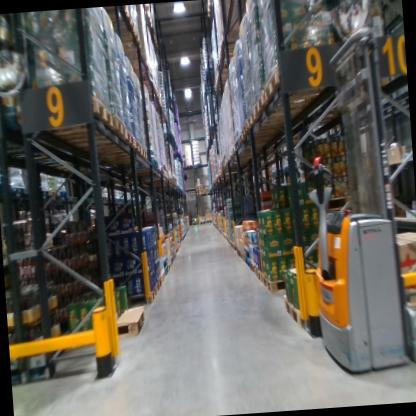pallet: (24, 95, 114, 140), (71, 303, 146, 347), (262, 65, 325, 106), (255, 86, 330, 115), (66, 114, 130, 144), (75, 126, 136, 154), (246, 104, 300, 130), (80, 138, 142, 160), (104, 25, 145, 55), (98, 8, 136, 35), (98, 143, 148, 163), (262, 267, 296, 294), (238, 128, 284, 146), (121, 152, 159, 173), (240, 121, 278, 138), (280, 295, 302, 323), (217, 33, 241, 58), (230, 143, 264, 158), (131, 76, 158, 94), (138, 284, 158, 306), (9, 184, 31, 198), (35, 181, 50, 199), (147, 171, 169, 182), (143, 12, 155, 25), (251, 256, 258, 278), (235, 244, 242, 263), (156, 273, 162, 293), (256, 264, 263, 281), (50, 189, 62, 198), (245, 256, 252, 270), (160, 269, 166, 285), (234, 137, 240, 153), (163, 265, 170, 278), (61, 188, 70, 197), (166, 261, 172, 272), (170, 254, 176, 263), (197, 221, 206, 227), (241, 250, 245, 263), (205, 219, 214, 224), (232, 241, 236, 252), (102, 194, 108, 201), (169, 256, 173, 266), (195, 186, 203, 190), (197, 192, 204, 196), (194, 184, 203, 187), (196, 189, 203, 192), (196, 192, 204, 194)
pallet_truck: (291, 21, 416, 378)
